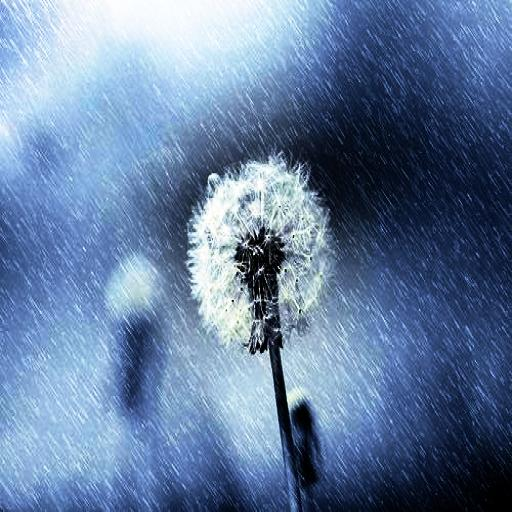dandelion: (185, 150, 333, 343)
